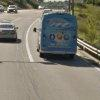buses: (33, 10, 78, 58)
